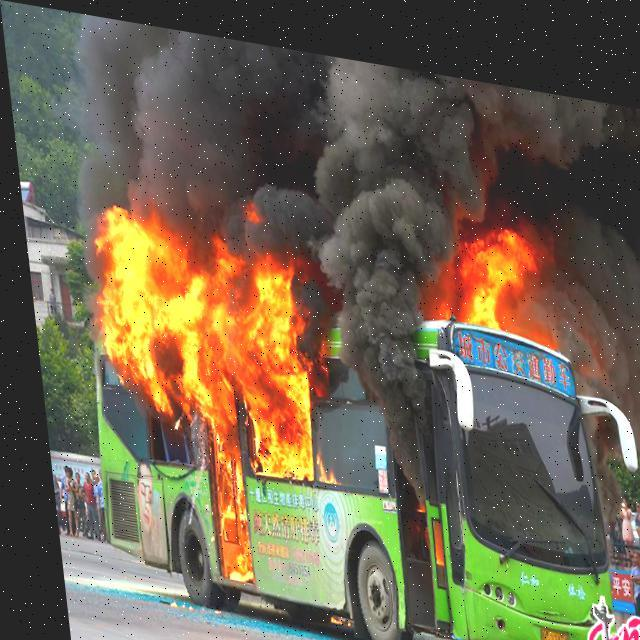Fire: (82, 171, 330, 580), (442, 192, 554, 331)
